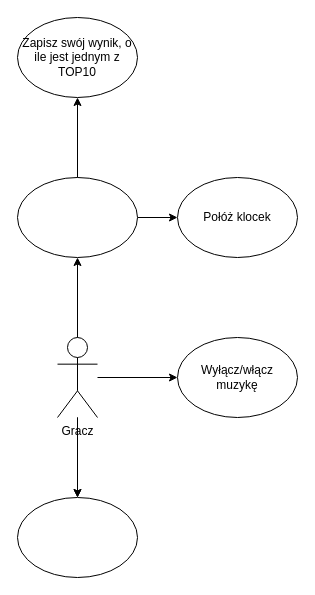
This 315x595 diagram has some shape labels left out. The centre of each missing label's shape, as x and y in pixels:
"Graj" belongs at point 77,217.
"Przeglądaj najlepsze wyniki" belongs at point 77,537.
